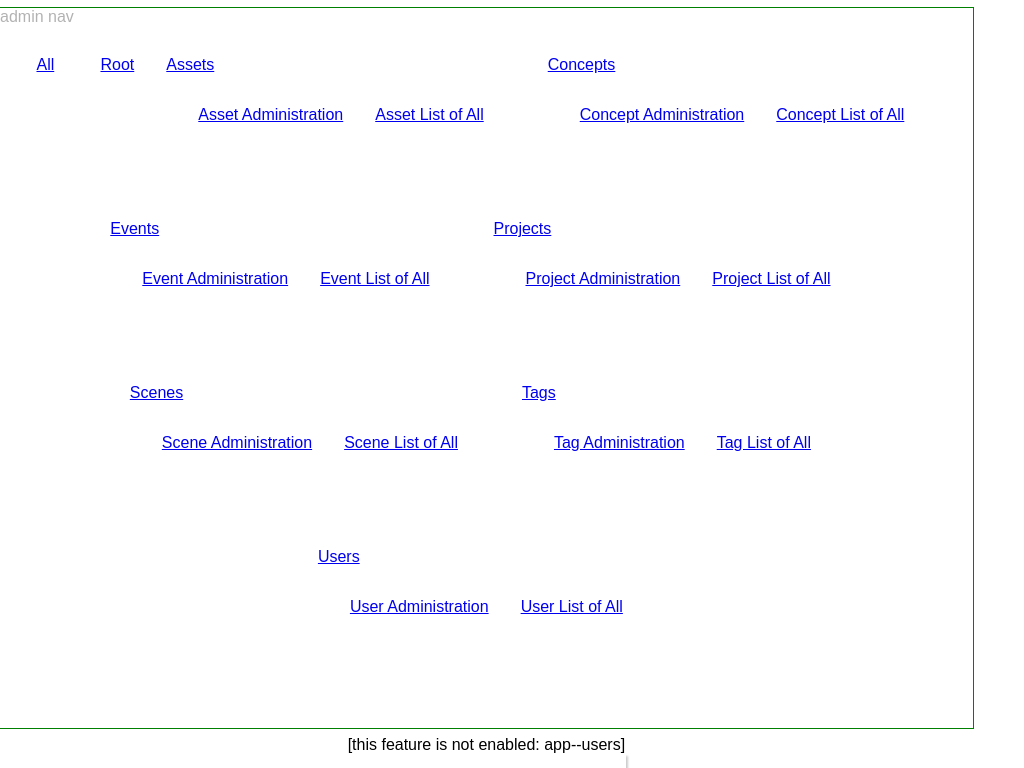
Test: Admin Features Are Grounded › Has a link to Concepts; Concept Features Are Not Enabled
Step 1. Click the link "Concepts" → {"x": 582, "y": 65}, box [548,56,616,73]
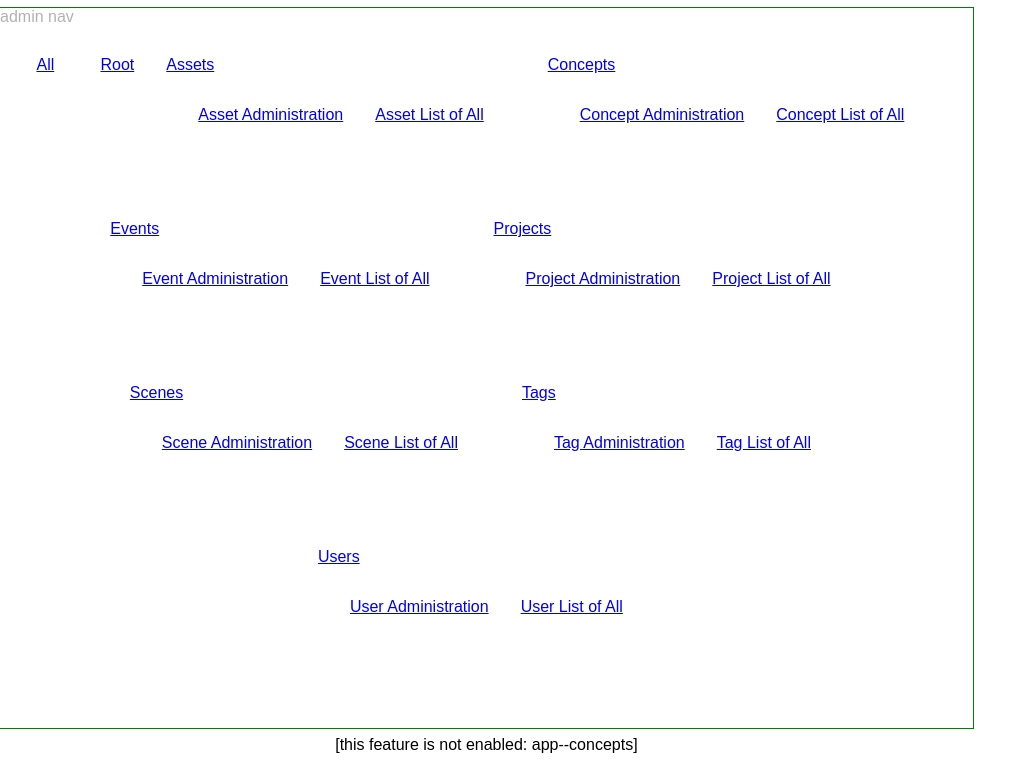
Now the text "[this feature is not enabled: app--concepts]" is shown
